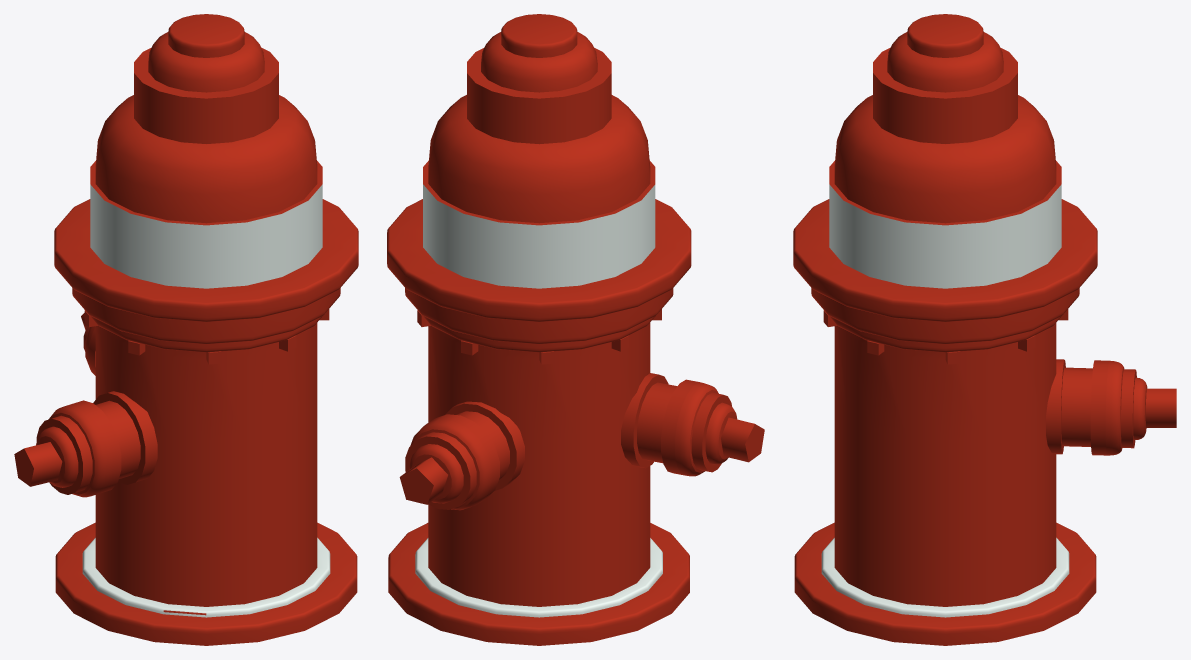
The model's file is P_bouche_incendie.fbx.
The picture shows the model from 3 angles, left to right: view 1: azimuth 30°, elevation 25°; view 2: azimuth 150°, elevation 25°; view 3: azimuth 270°, elevation 25°; orthographic projection.
Parts seen in each view (by area): view 1: Cylinder001; view 2: Cylinder001; view 3: Cylinder001.
Boxes of the visible parts, x1,y1,x2,y2 form: Cylinder001: (14,14,358,645); Cylinder001: (387,14,764,645); Cylinder001: (793,14,1176,645).
Size of the model in its own units: 19.43 by 30.8 by 19.38.
